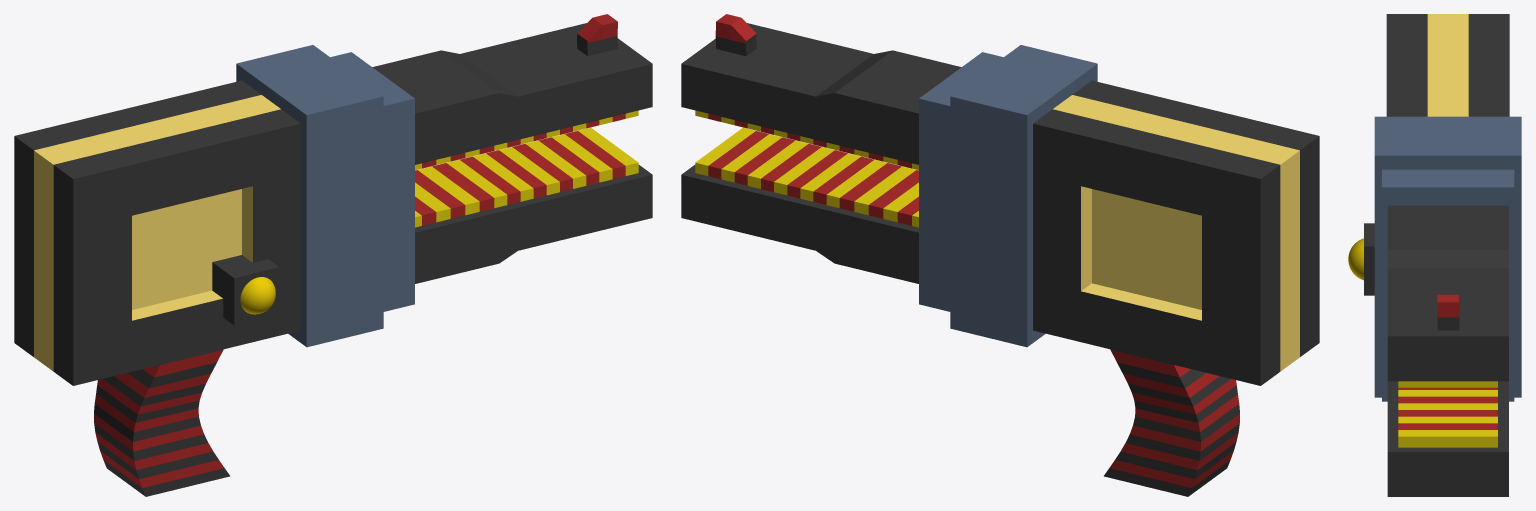
The model's file is LazerGun.fbx.
3 renders of one model, left to right at view 1: azimuth 30°, elevation 25°; view 2: azimuth 150°, elevation 25°; view 3: azimuth 270°, elevation 25°, orthographic. The views are drawn at different scales.
Visible parts, largest first — view 1: Cube.001, Cube.004, Cube.003, Cube.002, Cube.006, Cube.005, Sphere; view 2: Cube.001, Cube.004, Cube.003, Cube.002, Cube.005; view 3: Cube.004, Cube.003, Cube.001, Cube.005, Cube.006, Sphere.
Boxes of the visible parts, box(x1,y1,x2,y2) form: Cube.001: box(14, 80, 300, 385); Cube.004: box(372, 23, 652, 283); Cube.003: box(236, 45, 414, 347); Cube.002: box(94, 349, 229, 496); Cube.006: box(212, 255, 279, 325); Cube.005: box(577, 14, 617, 56); Sphere: box(240, 277, 275, 314); Cube.001: box(1033, 80, 1319, 385); Cube.004: box(681, 23, 961, 283); Cube.003: box(919, 45, 1097, 347); Cube.002: box(1104, 349, 1239, 496); Cube.005: box(715, 14, 756, 56); Cube.004: box(1387, 205, 1508, 496); Cube.003: box(1374, 116, 1521, 401); Cube.001: box(1386, 14, 1509, 116); Cube.005: box(1437, 294, 1459, 330); Cube.006: box(1364, 223, 1374, 295); Sphere: box(1348, 238, 1363, 280).
Size of the model in its own units: 485 by 286 by 121.
